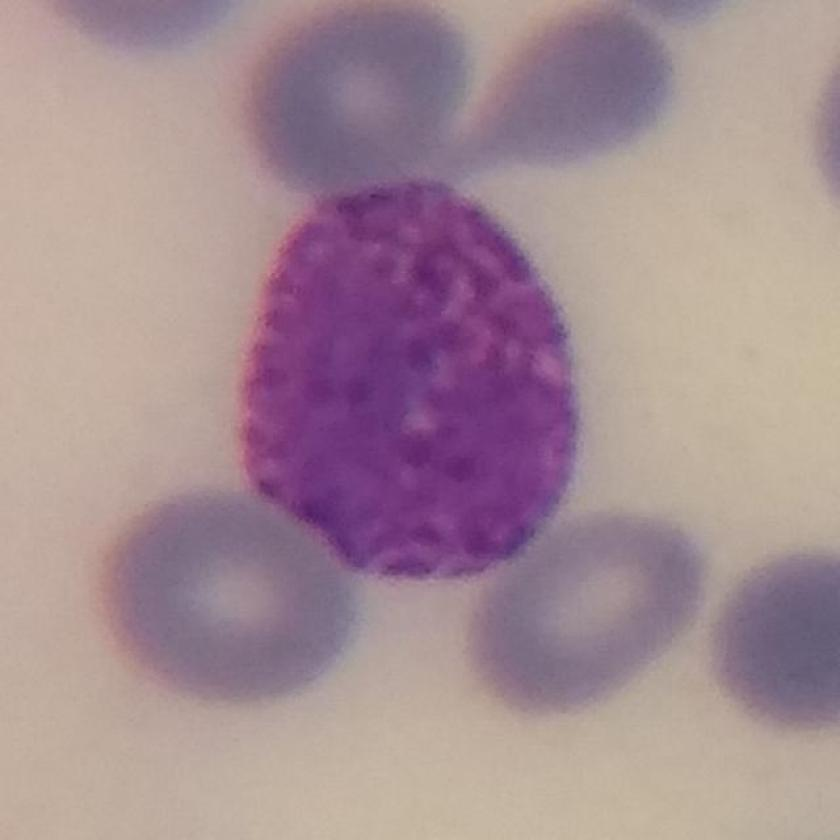basophil: (236, 169, 603, 597)
